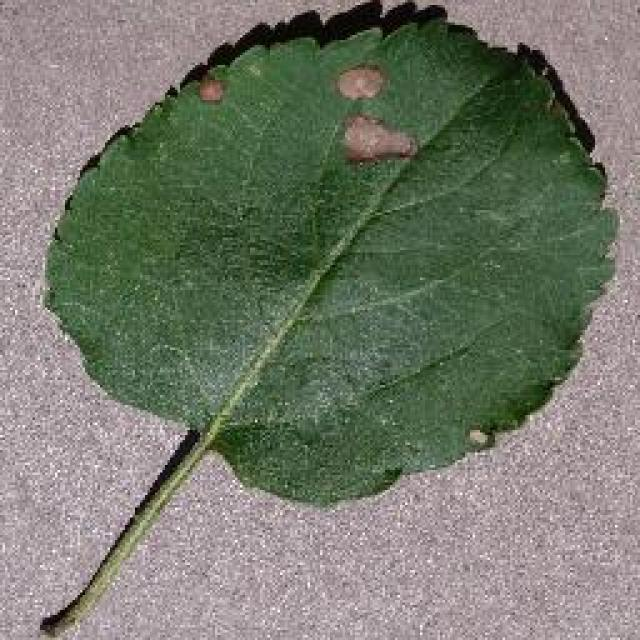Black_rot: (35, 0, 620, 638)
